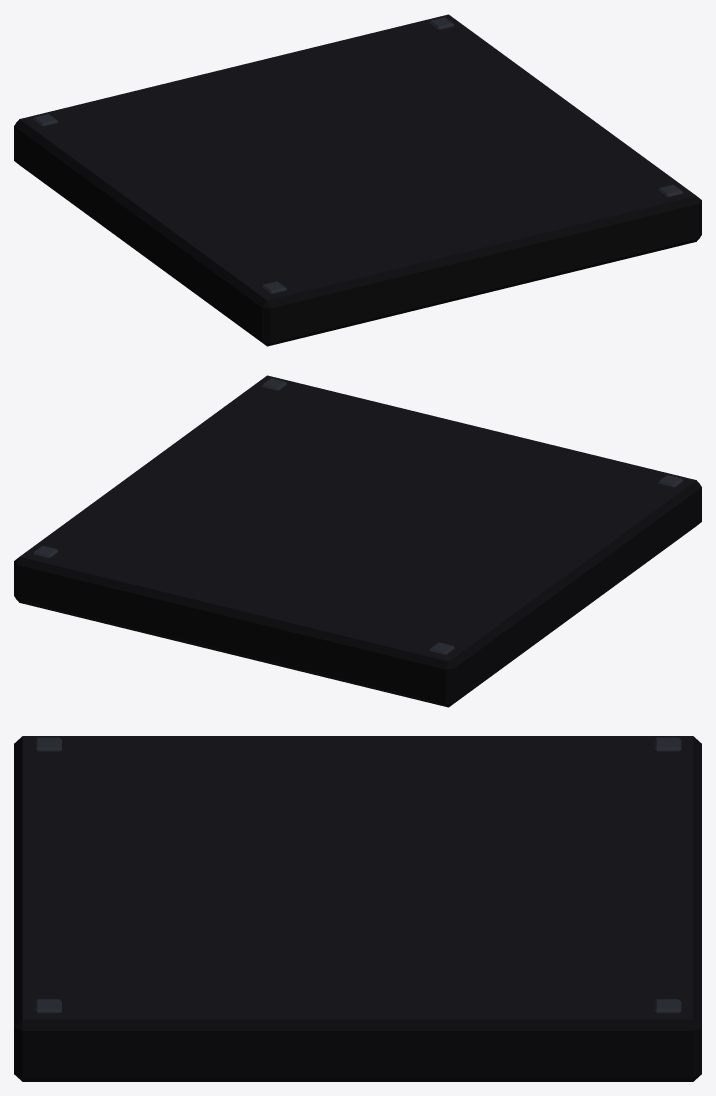
The model's file is SM_Floor_Plain.glb.
3 views of the same model, one above another, from view 1: azimuth 30°, elevation 25°; view 2: azimuth 150°, elevation 25°; view 3: azimuth 270°, elevation 25° (orthographic). The views are drawn at different scales.
Parts seen in each view (by area): view 1: SM_Floor_Plain; view 2: SM_Floor_Plain; view 3: SM_Floor_Plain.
Boxes of the visible parts, x1,y1,x2,y2 form: SM_Floor_Plain: [14, 14, 701, 346]; SM_Floor_Plain: [14, 375, 701, 707]; SM_Floor_Plain: [14, 736, 701, 1081].
Size of the model in its own units: 2 by 0.215 by 2.
Materials: 1 (1 with a texture image).
